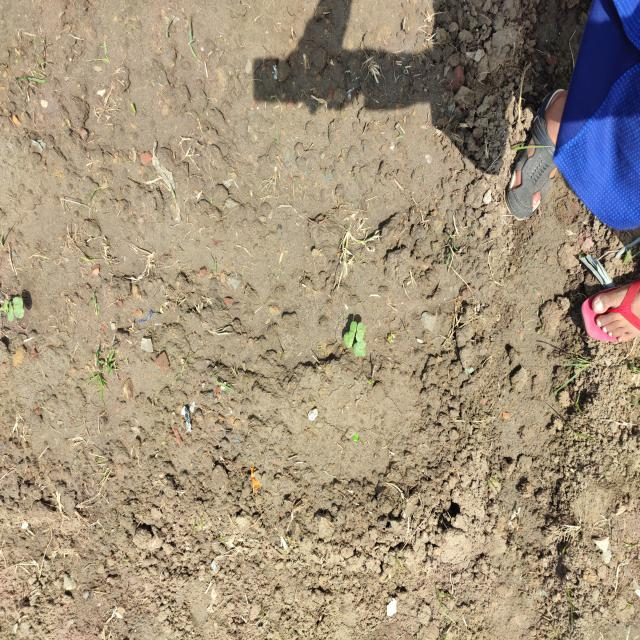seedling: (13, 296, 24, 319), (356, 322, 365, 342), (343, 332, 354, 348), (353, 341, 366, 352), (349, 321, 357, 338), (8, 302, 14, 321), (1, 300, 8, 314), (354, 349, 366, 357)
